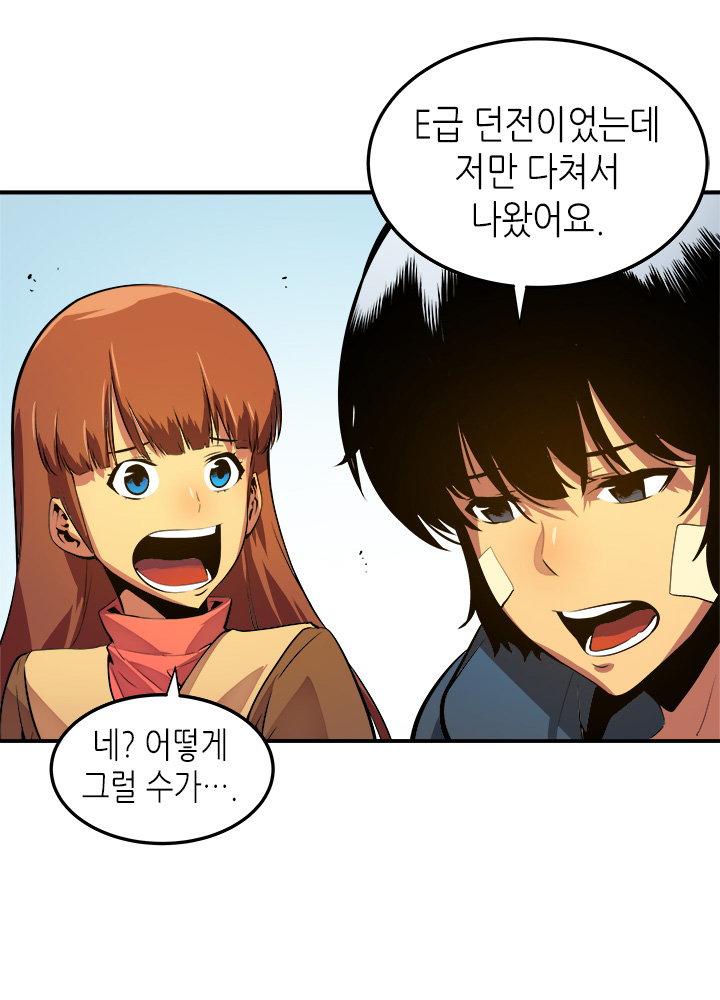dialog box: (334, 6, 720, 337), (25, 646, 294, 860)
text: (388, 80, 684, 264), (64, 705, 255, 821)
